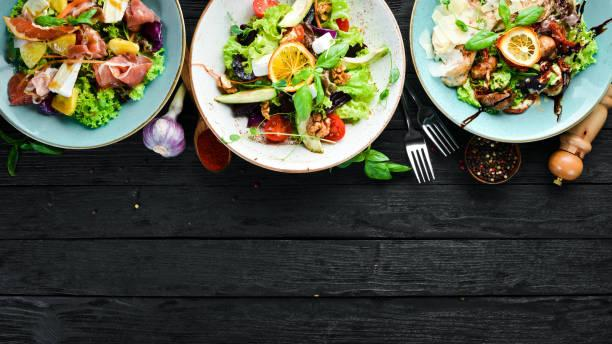Braised Crucian Carp: (189, 1, 401, 175), (409, 2, 607, 145), (2, 1, 183, 150)
